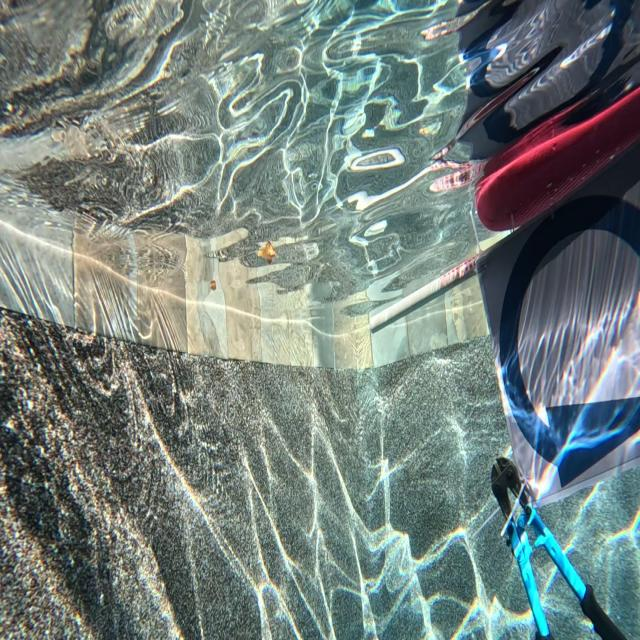blue_side: (499, 194, 636, 466)
